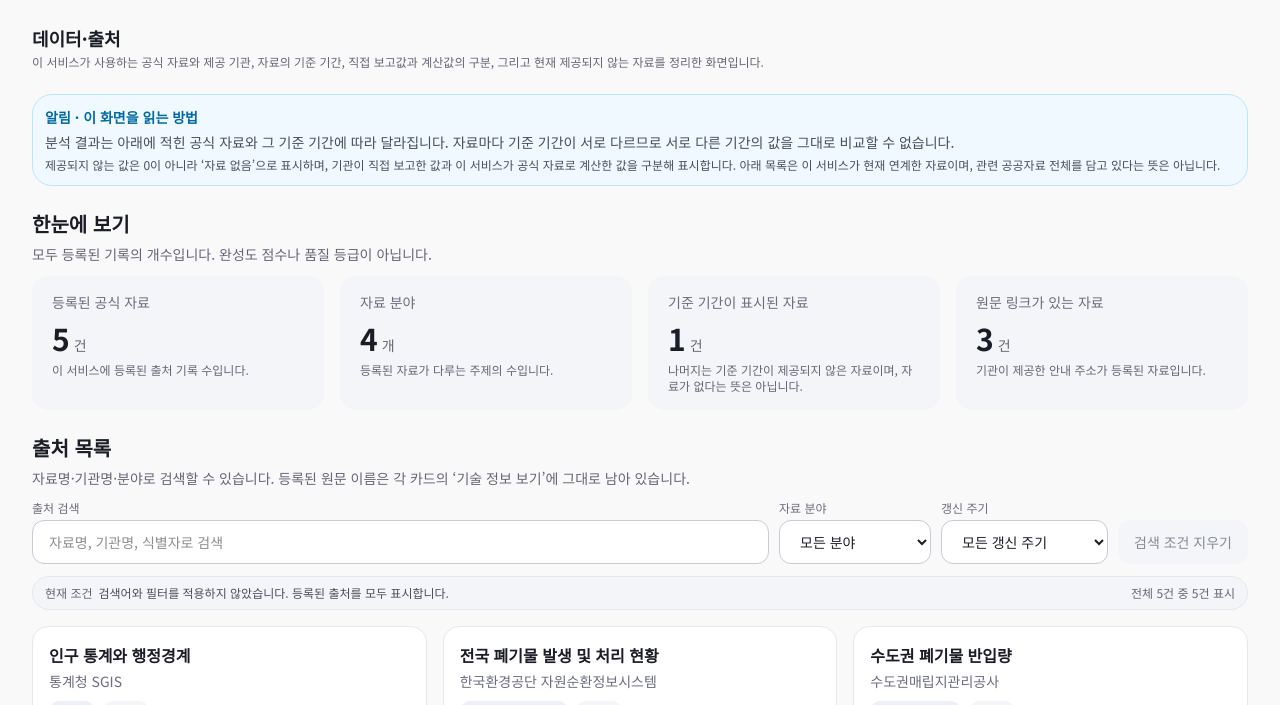
검색 조건 지우기 › enables as soon as ANY one of the three controls leaves its default
This screenshot has width=1280, height=705.
In the search field with test id "transparency-search": (400, 542) [32, 520, 769, 564], type "기상청"
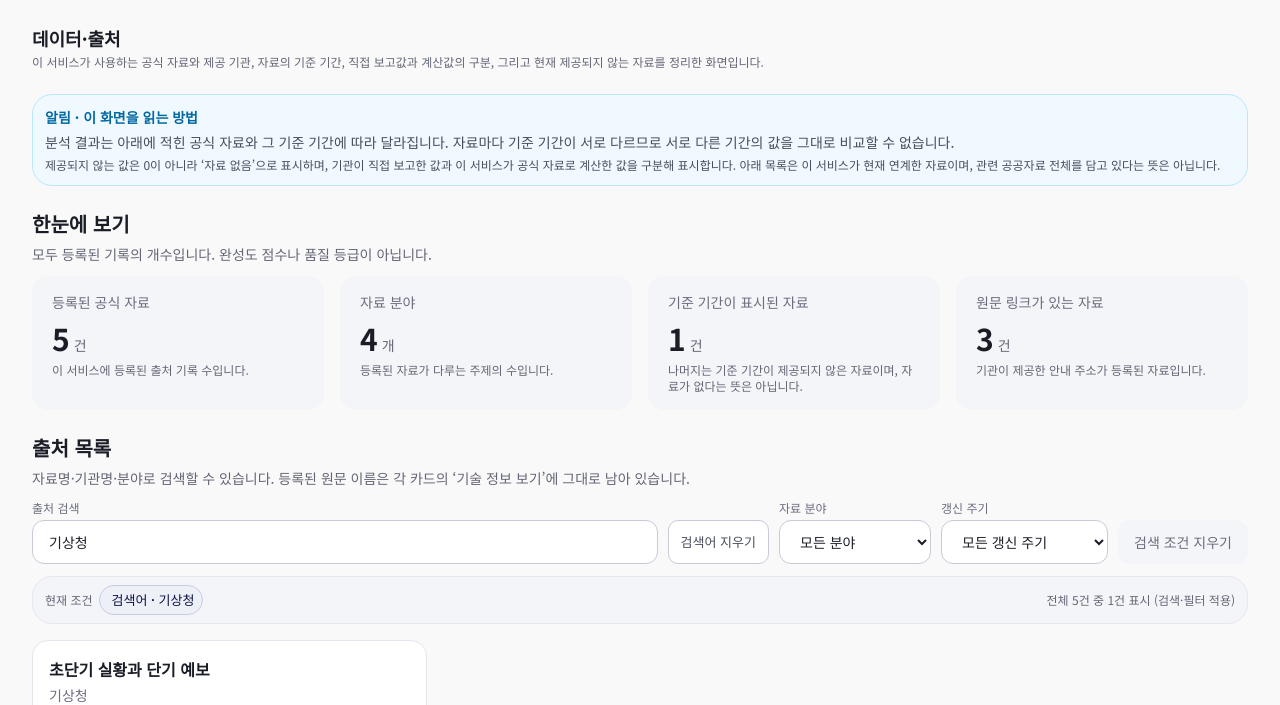
expect the button with test id "transparency-clear-filters" is enabled: met
Click the button with test id "transparency-clear-filters": (1183, 542) [1118, 520, 1248, 564]
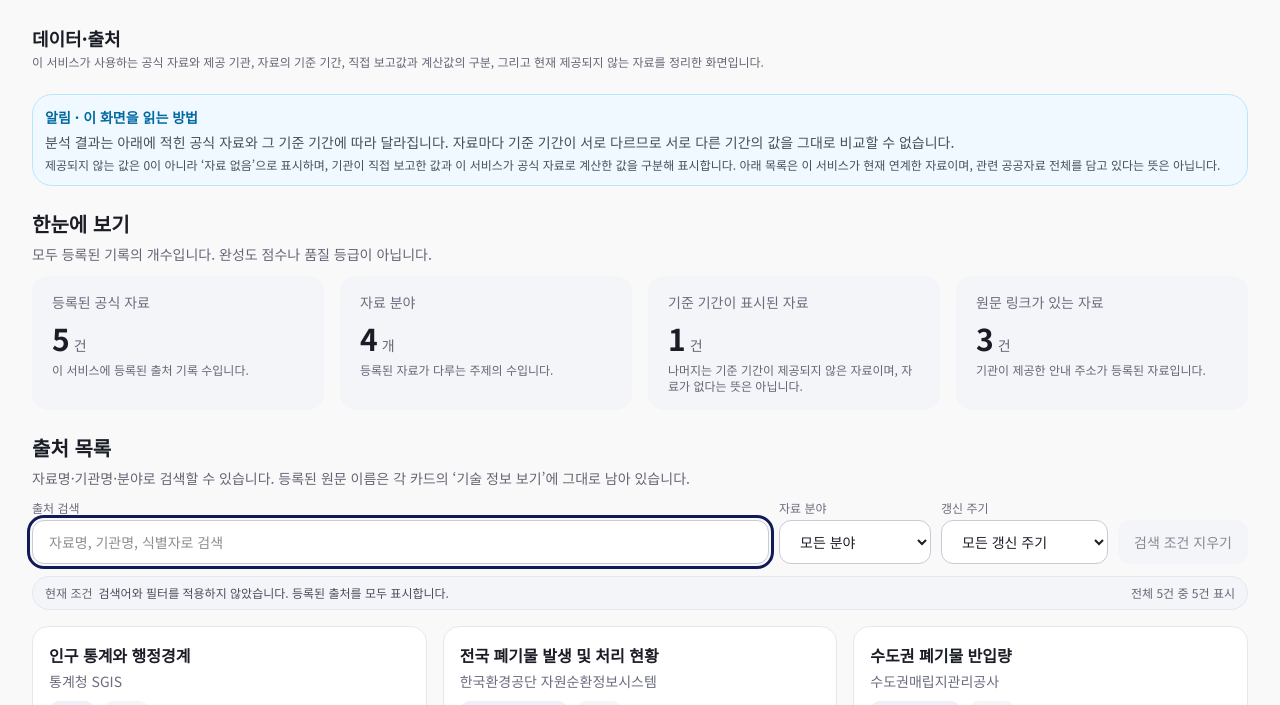
expect the button with test id "transparency-clear-filters" is disabled: met, box [1118, 520, 1248, 564]
Select "수도권매립지" in the dropdown with test id "transparency-filter-category": (855, 542) [779, 520, 931, 564]
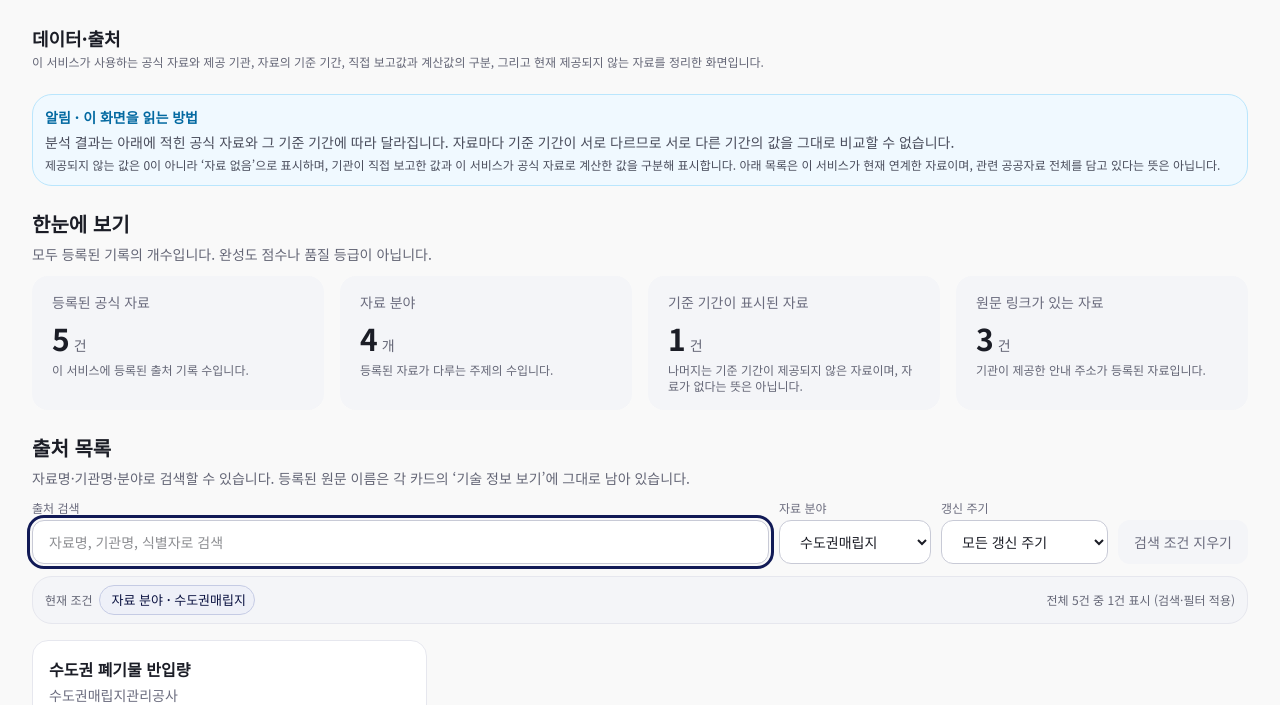
expect the button with test id "transparency-clear-filters" is enabled: met
Click the button with test id "transparency-clear-filters": (1183, 542) [1118, 520, 1248, 564]
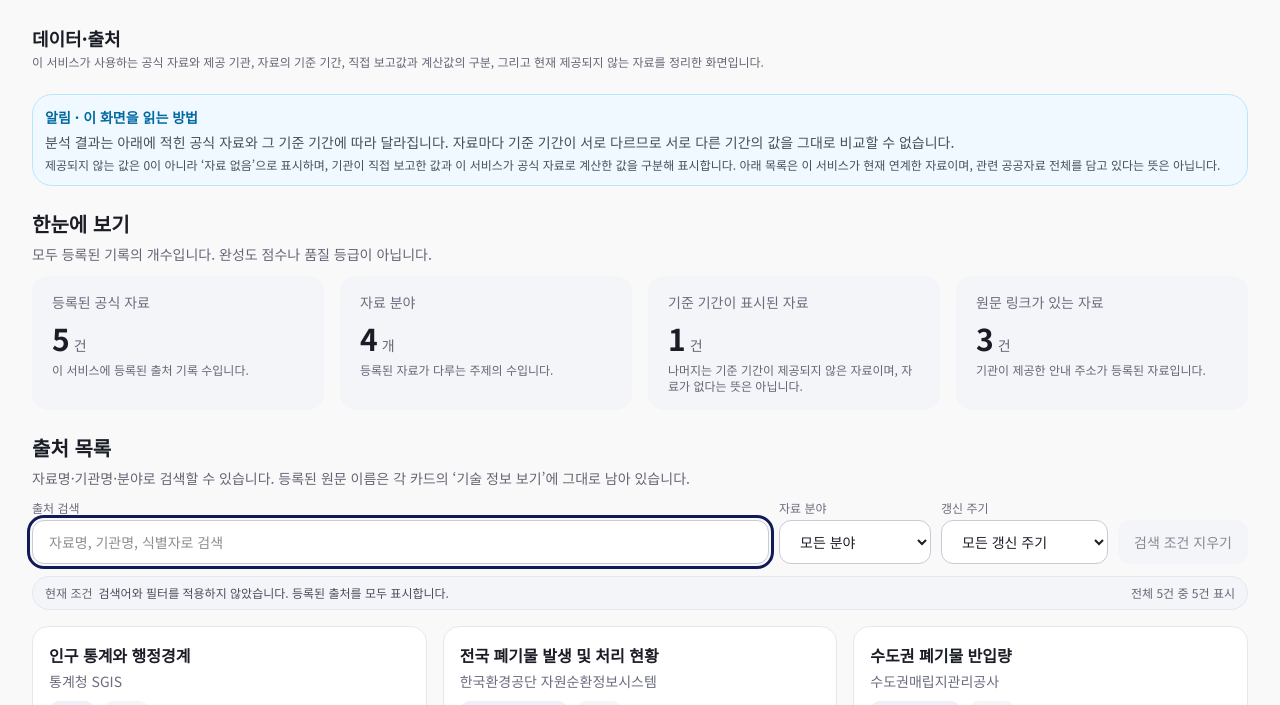
expect the button with test id "transparency-clear-filters" is disabled: met, box [1118, 520, 1248, 564]
Select "월간" in the dropdown with test id "transparency-filter-frequency": (1024, 542) [941, 520, 1108, 564]
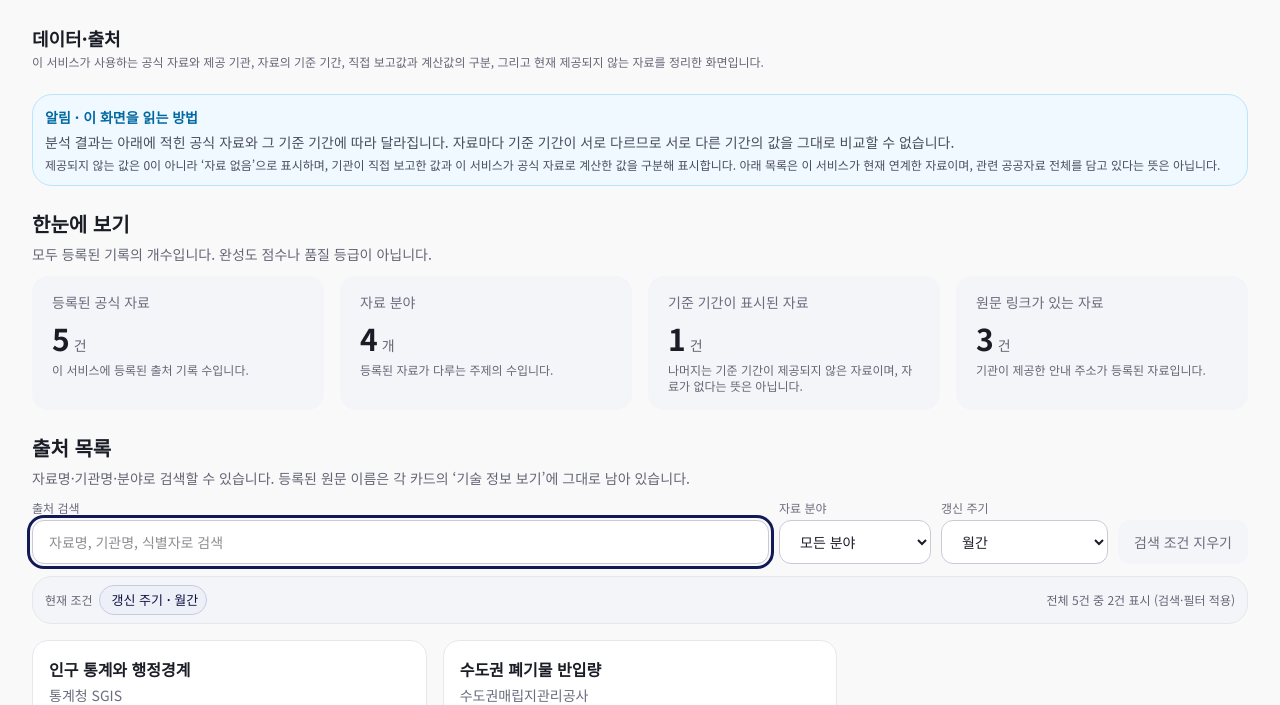
expect the button with test id "transparency-clear-filters" is enabled: met, box [1118, 520, 1248, 564]
